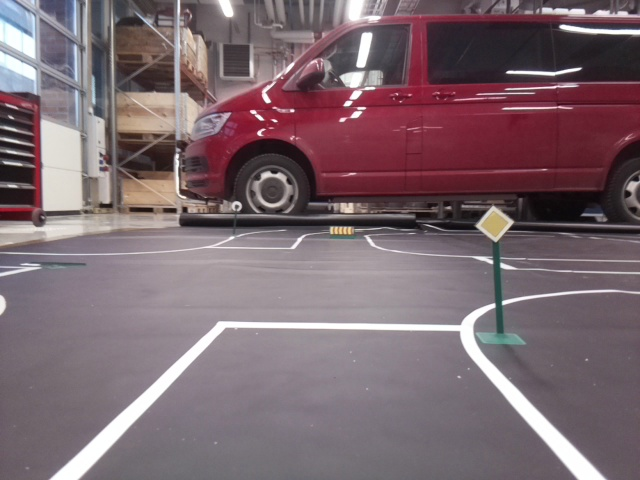Priority: (474, 205, 514, 239)
